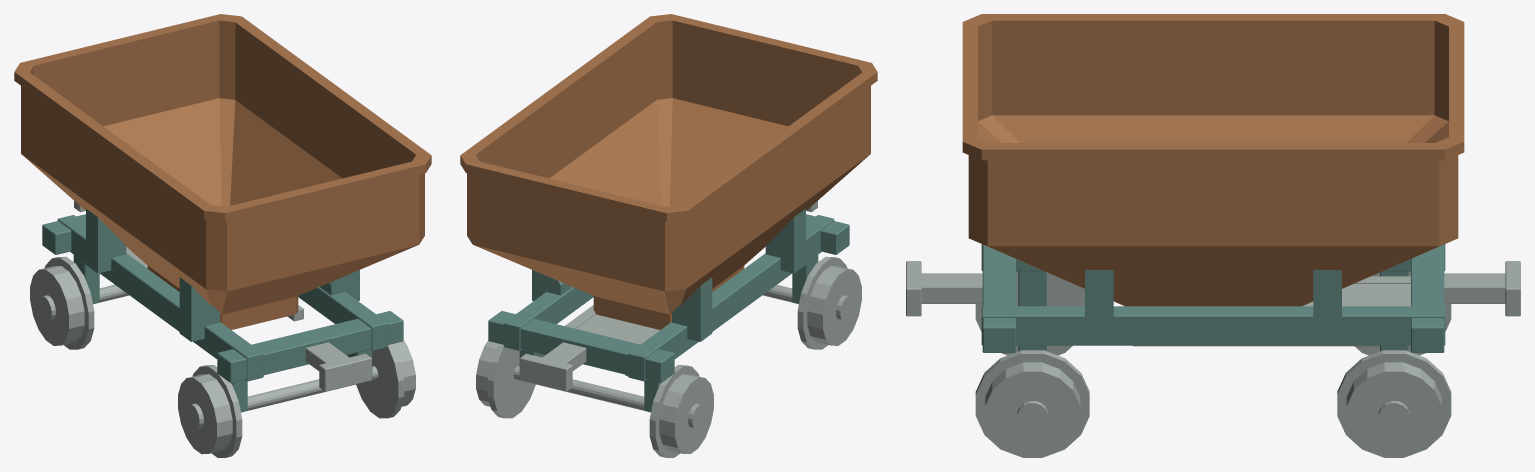
The picture shows the model from 3 angles, left to right: view 1: azimuth 30°, elevation 25°; view 2: azimuth 150°, elevation 25°; view 3: azimuth 270°, elevation 25°; orthographic projection. The views are drawn at different scales.
Visible parts, largest first — view 1: Hopper_ContinuousThickOpenShell, Chassis_Left, Crossmember_Front, Tread_Left_Rear, Tread_Left_Front, Flange_Right_Front, Chassis_Right, HopperBracket_Left_Front, HopperBracket_Left_Rear, CouplingFace_Front, Flange_Left_Rear, Flange_Left_Front (+6 smaller); view 2: Hopper_ContinuousThickOpenShell, Chassis_Left, Crossmember_Rear, Tread_Left_Front, Tread_Left_Rear, Flange_Right_Rear, Chassis_Right, HopperBracket_Left_Rear, HopperBracket_Left_Front, CouplingFace_Rear, Gate_FixedPartlyWithdrawn, Flange_Left_Front (+7 smaller); view 3: Hopper_ContinuousThickOpenShell, Chassis_Right, Tread_Right_Front, Tread_Right_Rear, Crossmember_Front, Crossmember_Rear, Flange_Right_Front, Flange_Right_Rear, HopperBracket_Right_Front, HopperBracket_Right_Rear, CouplingShank_Front, CouplingShank_Rear (+7 smaller).
Boxes of the visible parts, x1,y1,x2,y2 form: Hopper_ContinuousThickOpenShell: (14, 14, 431, 329); Chassis_Left: (57, 215, 263, 381); Crossmember_Front: (217, 311, 403, 383); Tread_Left_Rear: (30, 266, 84, 345); Tread_Left_Front: (178, 374, 232, 454); Flange_Right_Front: (356, 344, 404, 418); Chassis_Right: (298, 287, 388, 350); HopperBracket_Left_Front: (179, 277, 219, 341); HopperBracket_Left_Rear: (86, 209, 126, 273); CouplingFace_Front: (319, 353, 371, 391); Flange_Left_Rear: (44, 256, 94, 349); Flange_Left_Front: (192, 365, 242, 457); Hopper_ContinuousThickOpenShell: (460, 14, 877, 329); Chassis_Left: (628, 215, 834, 381); Crossmember_Rear: (488, 311, 674, 383); Tread_Left_Front: (807, 266, 861, 345); Tread_Left_Rear: (659, 374, 713, 454); Flange_Right_Rear: (487, 344, 535, 418); Chassis_Right: (503, 287, 593, 350); HopperBracket_Left_Rear: (672, 277, 712, 341); HopperBracket_Left_Front: (765, 209, 805, 273); CouplingFace_Rear: (520, 353, 572, 391); Gate_FixedPartlyWithdrawn: (576, 314, 659, 344); Flange_Left_Front: (797, 256, 847, 349); Hopper_ContinuousThickOpenShell: (962, 14, 1464, 306); Chassis_Right: (981, 306, 1445, 345); Tread_Right_Front: (985, 362, 1080, 457); Tread_Right_Rear: (1346, 362, 1441, 457); Crossmember_Front: (982, 244, 1015, 352); Crossmember_Rear: (1411, 244, 1444, 352); Flange_Right_Front: (975, 350, 1089, 451); Flange_Right_Rear: (1337, 350, 1451, 451); HopperBracket_Right_Front: (1085, 270, 1113, 338); HopperBracket_Right_Rear: (1313, 270, 1341, 338); CouplingShank_Front: (921, 273, 982, 303); CouplingShank_Rear: (1444, 273, 1505, 303).
Bounding box in the file's own units: 1.35 × 1.51 × 2.59.
